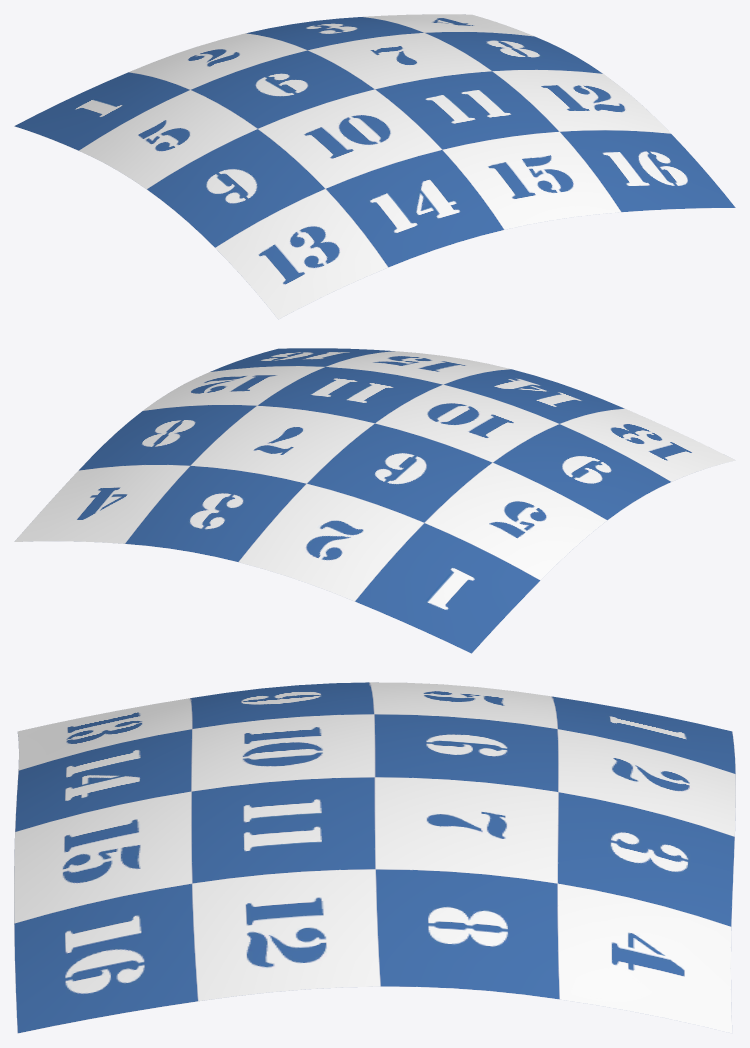
File: Rui_Plane1.fbx
The picture shows the model from 3 angles, top to bottom: view 1: azimuth 30°, elevation 25°; view 2: azimuth 150°, elevation 25°; view 3: azimuth 270°, elevation 25°; orthographic projection. The views are drawn at different scales.
Parts seen in each view (by area): view 1: SM_e_Plc_P1007_plane004; view 2: SM_e_Plc_P1007_plane004; view 3: SM_e_Plc_P1007_plane004.
Part boxes in pixels (<box>): SM_e_Plc_P1007_plane004: <box>14,14,735,319</box>; SM_e_Plc_P1007_plane004: <box>14,348,735,653</box>; SM_e_Plc_P1007_plane004: <box>14,682,735,1033</box>.
Size of the model in its own units: 97.77 by 15.72 by 97.77.
